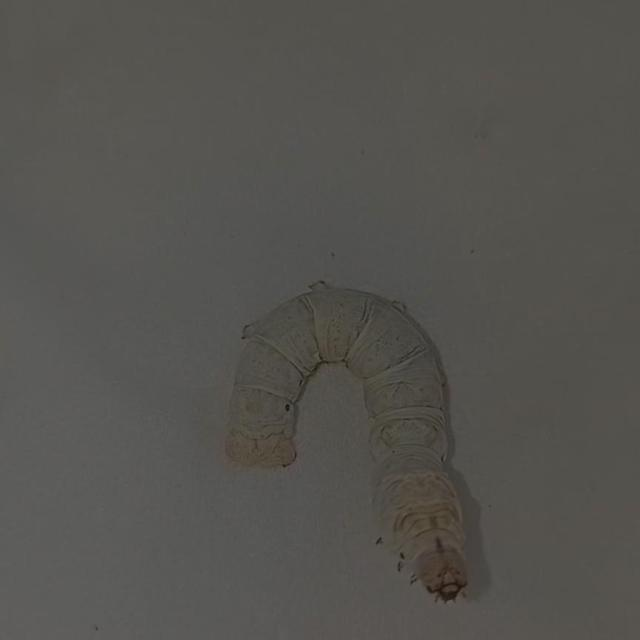Healthy: (210, 243, 504, 622)
